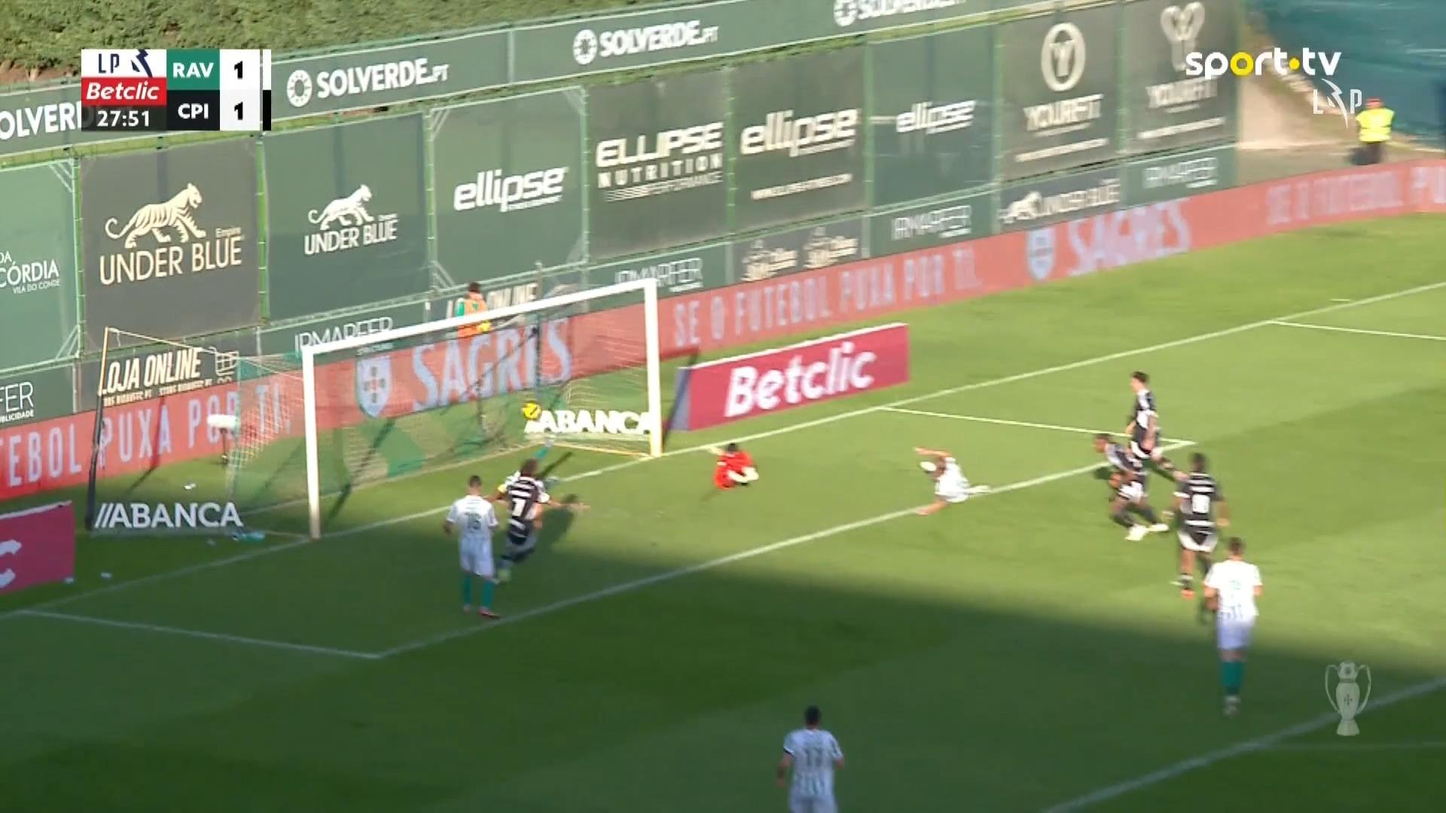ball: (520, 401, 543, 421)
goalkeeper: (707, 440, 758, 489)
player: (493, 452, 588, 583), (1200, 535, 1263, 718), (1152, 449, 1230, 595), (441, 473, 502, 619), (1091, 431, 1170, 541), (775, 703, 846, 811), (1122, 370, 1172, 493), (912, 444, 992, 516)
referee: (1351, 96, 1395, 165)
